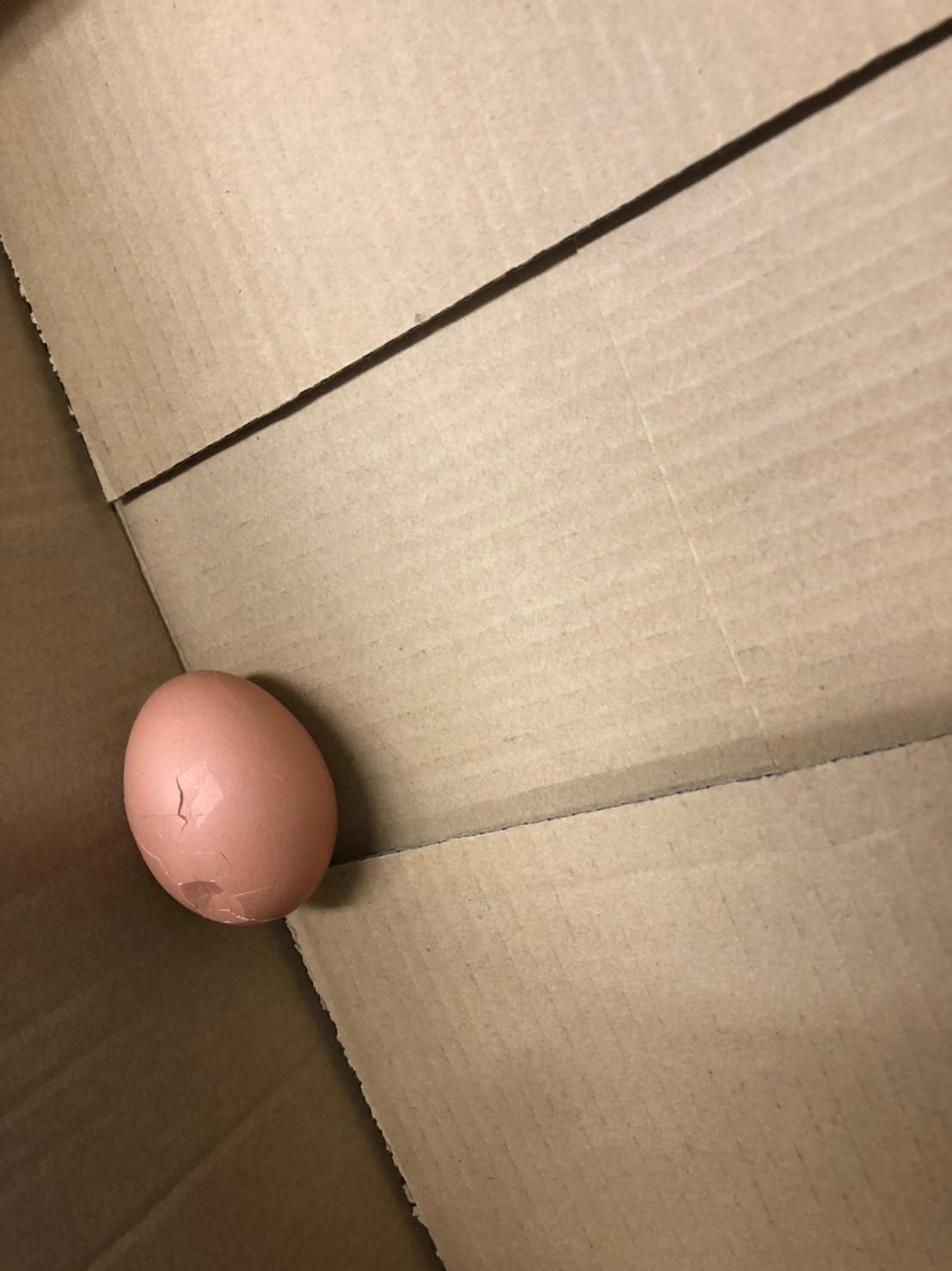egg: (108, 663, 346, 943)
